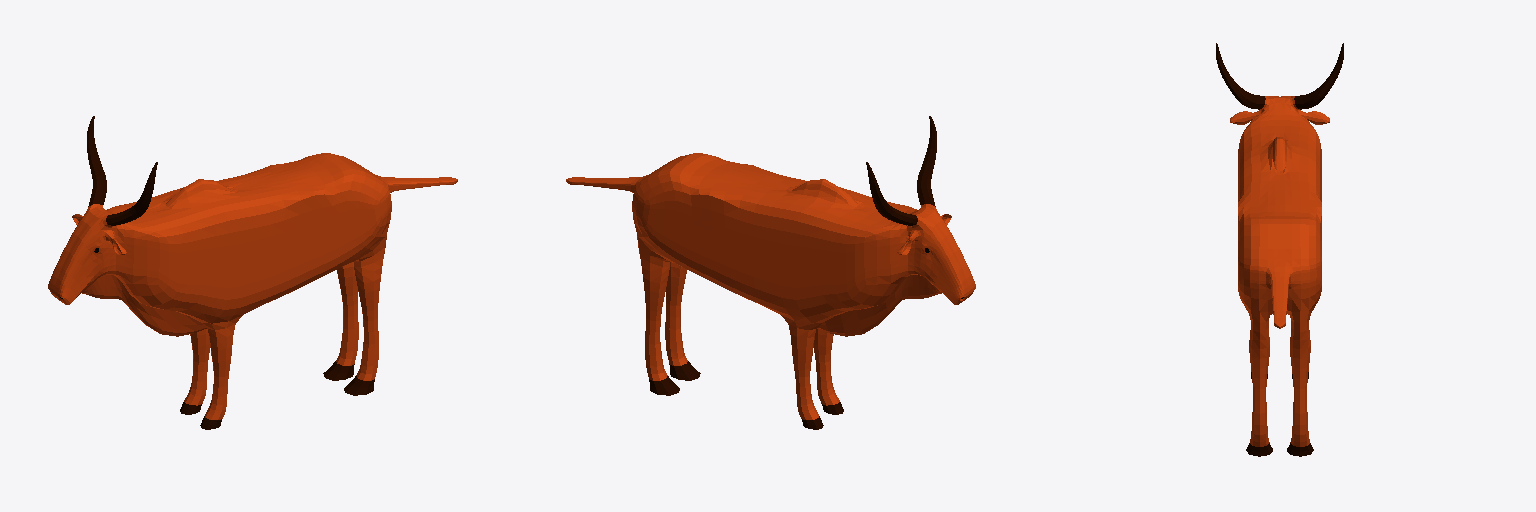
File: cow.obj
3 views of the same model, side by side, from view 1: azimuth 30°, elevation 25°; view 2: azimuth 150°, elevation 25°; view 3: azimuth 270°, elevation 25° (orthographic).
Visible parts, largest first — view 1: Cow; view 2: Cow; view 3: Cow.
Boxes of the visible parts, <box> form: Cow: <box>48,116,457,429</box>; Cow: <box>566,116,975,429</box>; Cow: <box>1216,43,1343,456</box>.
Size of the model in its own units: 2.68 by 1.88 by 0.7358.